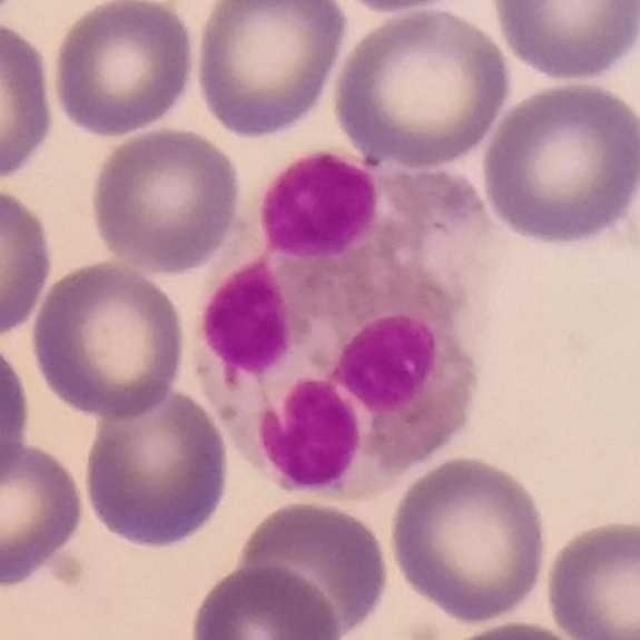Eosinophil: (184, 146, 508, 503)
RBC: (331, 5, 518, 172), (385, 451, 552, 625), (477, 77, 640, 249), (28, 256, 189, 423), (79, 383, 234, 553), (86, 122, 247, 276), (233, 495, 393, 639), (190, 0, 349, 141), (48, 0, 199, 139), (0, 436, 90, 591), (487, 0, 640, 84), (540, 513, 640, 640), (186, 561, 345, 640), (0, 12, 59, 188), (0, 181, 57, 343), (0, 330, 33, 496), (428, 616, 597, 640), (322, 0, 481, 16)
